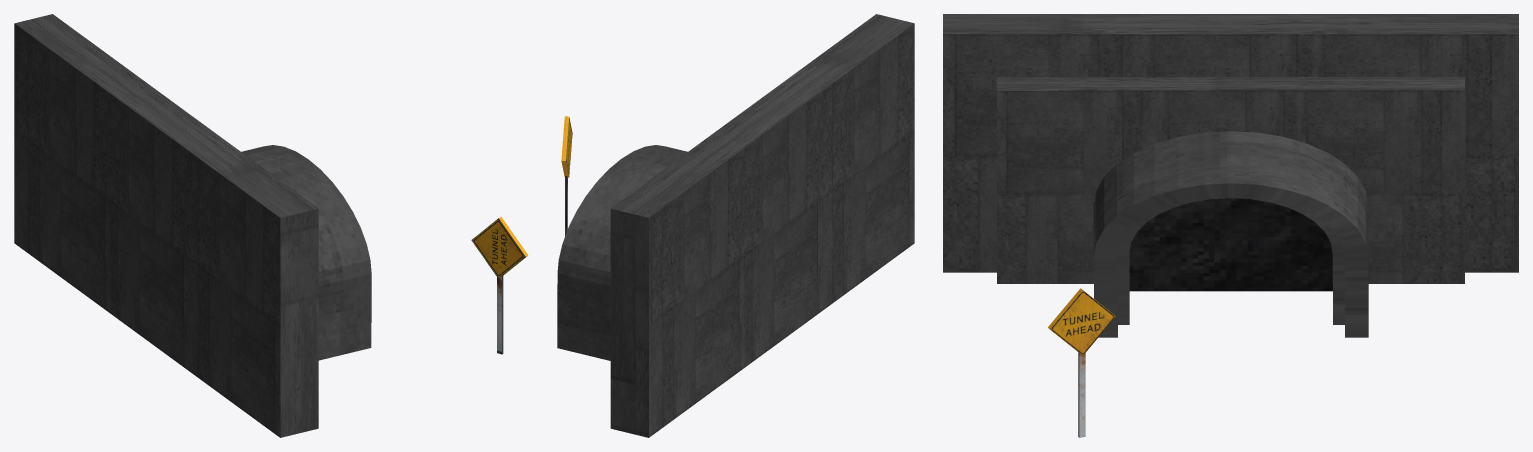
File: Tunnel.fbx
The picture shows the model from 3 angles, left to right: view 1: azimuth 30°, elevation 25°; view 2: azimuth 150°, elevation 25°; view 3: azimuth 270°, elevation 25°; orthographic projection. The views are drawn at different scales.
Parts seen in each view (by area): view 1: tunnel, sign; view 2: tunnel, sign; view 3: tunnel, sign.
Part boxes in pixels (x1,y1,x2,y2): tunnel: (14, 14, 371, 437); sign: (471, 216, 528, 354); tunnel: (557, 14, 914, 437); sign: (561, 116, 572, 235); tunnel: (943, 14, 1518, 337); sign: (1048, 288, 1115, 437).
Size of the model in its own units: 550 by 445 by 852.
5 materials, 5 textured.
